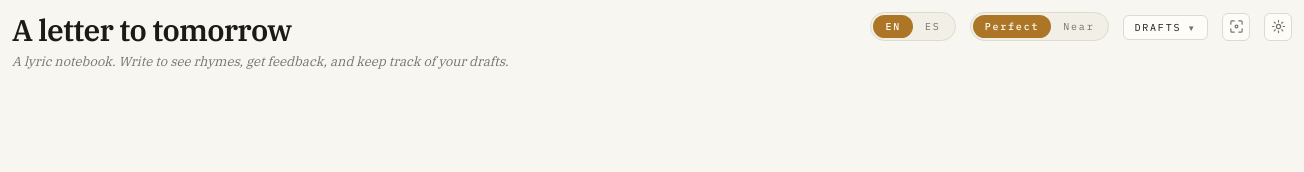
Test case: NotebookHeader title › shows the display title and the untruncated editable title when editing
Click the button with aria-label "edit draft title".
click(260, 30)  # box x1=12 y1=12 x2=508 y2=48
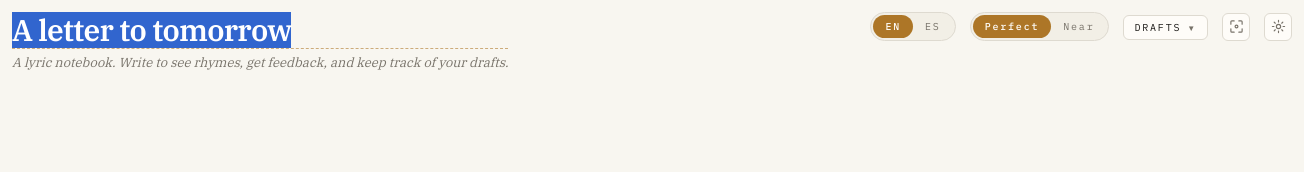
Expected: the field named "edit draft title" holds "A letter to tomorrow", x1=12 y1=12 x2=508 y2=49
